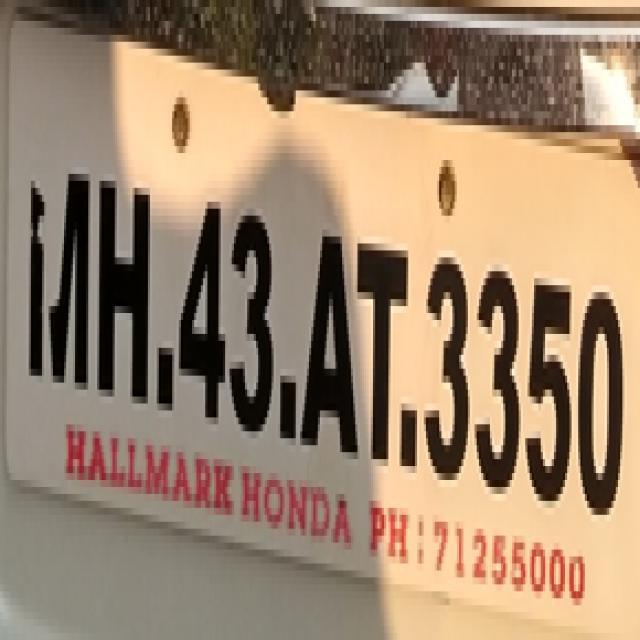0: (576, 281, 626, 534)
3: (230, 190, 278, 463), (422, 243, 472, 498), (476, 256, 522, 512)
4: (176, 197, 230, 441)
5: (526, 246, 578, 506)
A: (302, 215, 364, 460)
H: (96, 142, 158, 408)
M: (25, 136, 92, 400)
T: (354, 209, 414, 481)
